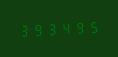five: (88, 18, 101, 34)
four: (60, 19, 73, 36)
nine: (31, 21, 44, 37), (74, 19, 87, 35)
three: (17, 22, 30, 38), (46, 20, 59, 36)
